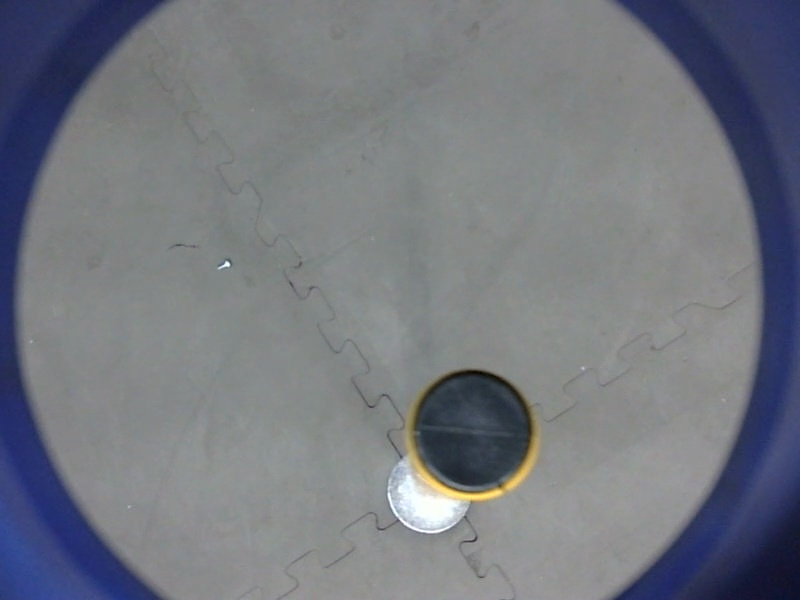tip: (402, 361, 549, 507)
